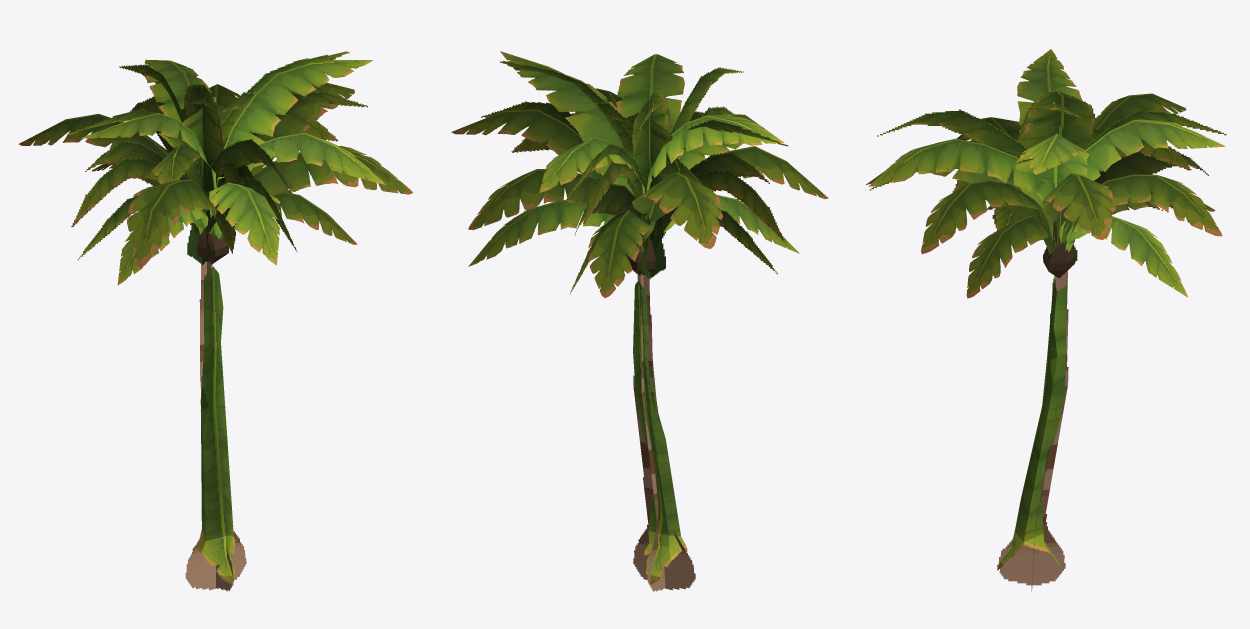
The model's file is sc-jungle-tree.glb.
The picture shows the model from 3 angles, left to right: view 1: azimuth 30°, elevation 25°; view 2: azimuth 150°, elevation 25°; view 3: azimuth 270°, elevation 25°; orthographic projection. The views are drawn at different scales.
Parts seen in each view (by area): view 1: SM_Env_Tree_Banana_03_LOD0, SM_Env_Tree_Banana_03_LOD2_L3; view 2: SM_Env_Tree_Banana_03_LOD0, SM_Env_Tree_Banana_03_LOD2_L3; view 3: SM_Env_Tree_Banana_03_LOD0, SM_Env_Tree_Banana_03_LOD2_L3.
Part boxes in pixels (left/top/right/bottom): SM_Env_Tree_Banana_03_LOD0: left=18, top=59, right=412, bottom=585; SM_Env_Tree_Banana_03_LOD2_L3: left=67, top=51, right=367, bottom=591; SM_Env_Tree_Banana_03_LOD0: left=451, top=51, right=828, bottom=584; SM_Env_Tree_Banana_03_LOD2_L3: left=481, top=60, right=788, bottom=591; SM_Env_Tree_Banana_03_LOD0: left=866, top=49, right=1225, bottom=570; SM_Env_Tree_Banana_03_LOD2_L3: left=869, top=91, right=1226, bottom=591.
Size of what is drawn, in the model's own units: 7.48 by 11.3 by 7.5.
3 materials, 3 textured.
